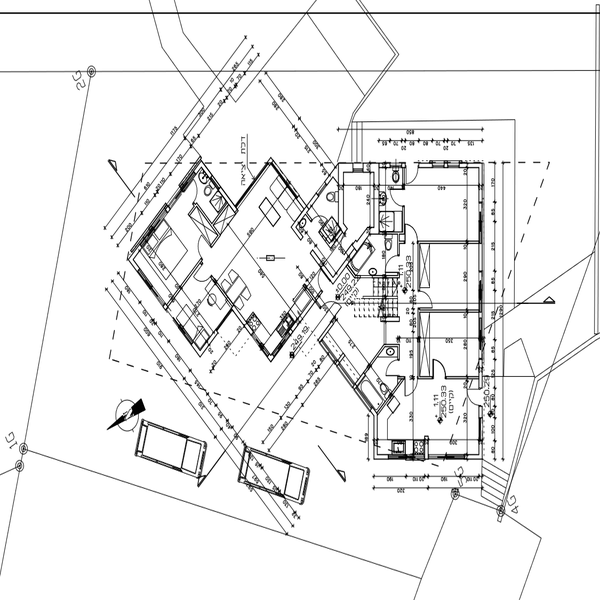door: (321, 298, 350, 322), (401, 158, 428, 183), (400, 217, 423, 246), (397, 378, 427, 400), (195, 233, 217, 262), (414, 285, 438, 311), (382, 247, 403, 276), (467, 384, 487, 414), (192, 263, 217, 285), (381, 359, 407, 379), (388, 184, 409, 206), (316, 269, 332, 296), (431, 357, 447, 379)
